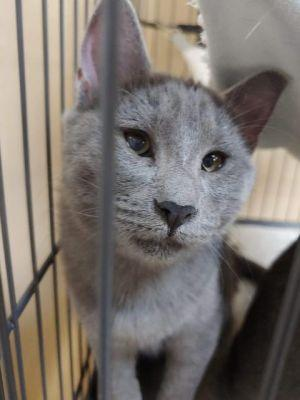rblue: (53, 1, 295, 284)
